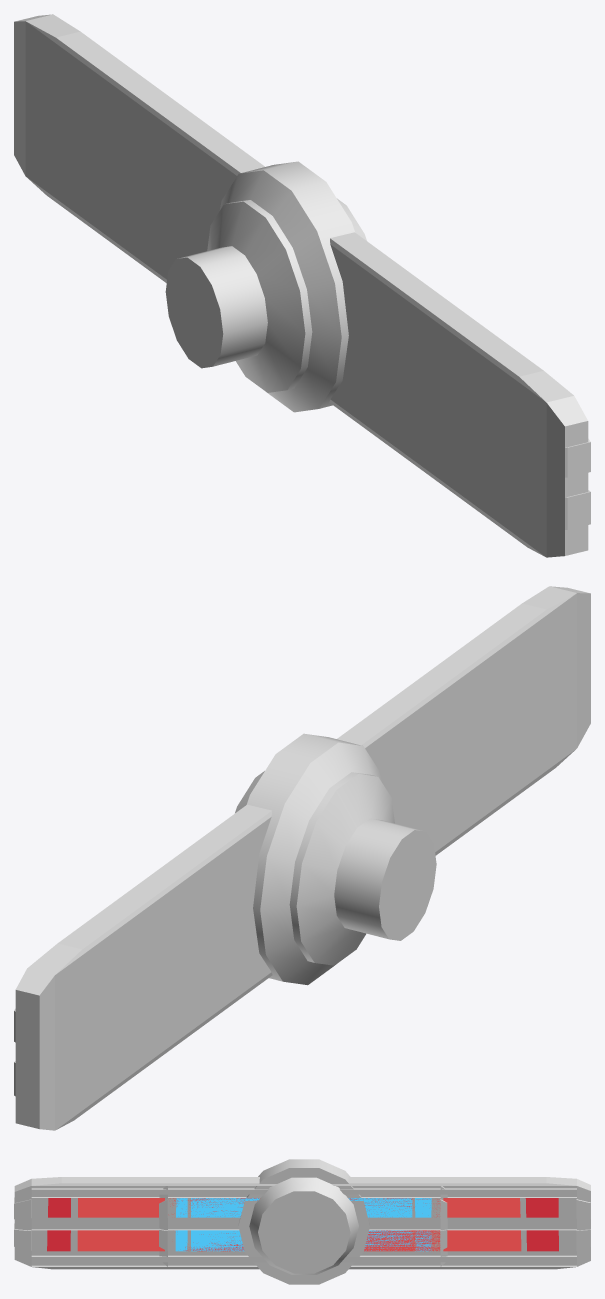
The model's file is Lights.fbx.
3 views of the same model, one above another, from view 1: azimuth 30°, elevation 25°; view 2: azimuth 150°, elevation 25°; view 3: azimuth 270°, elevation 25° (orthographic). The views are drawn at different scales.
Visible parts, largest first — view 1: Long_Light_2M, Point_Light, Long_Light_1M; view 2: Long_Light_2M, Point_Light, Long_Light_1M; view 3: Long_Light_2M, Long_Light_1M, Point_Light.
Boxes of the visible parts, x1,y1,x2,y2 form: Long_Light_2M: (14, 14, 590, 557); Point_Light: (165, 161, 366, 412); Long_Light_1M: (155, 116, 427, 461); Long_Light_2M: (14, 586, 590, 1130); Point_Light: (235, 733, 436, 985); Long_Light_1M: (176, 688, 446, 1034); Long_Light_2M: (14, 1177, 590, 1269); Long_Light_1M: (159, 1177, 447, 1269); Point_Light: (238, 1159, 369, 1284).
Bounding box in the file's own units: 30.3 × 44.57 × 200.
